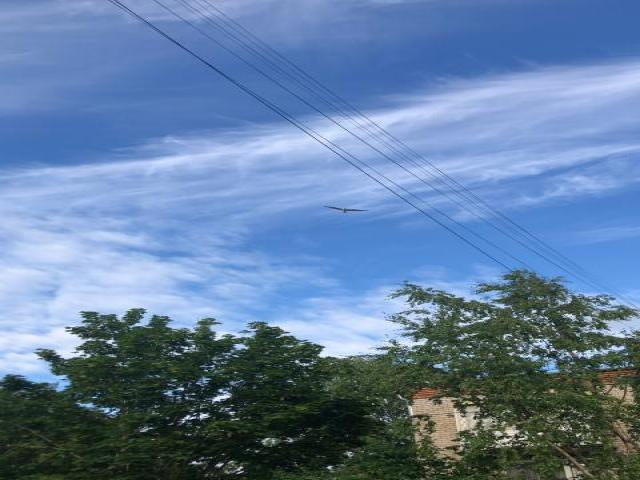bird: (328, 198, 376, 221)
